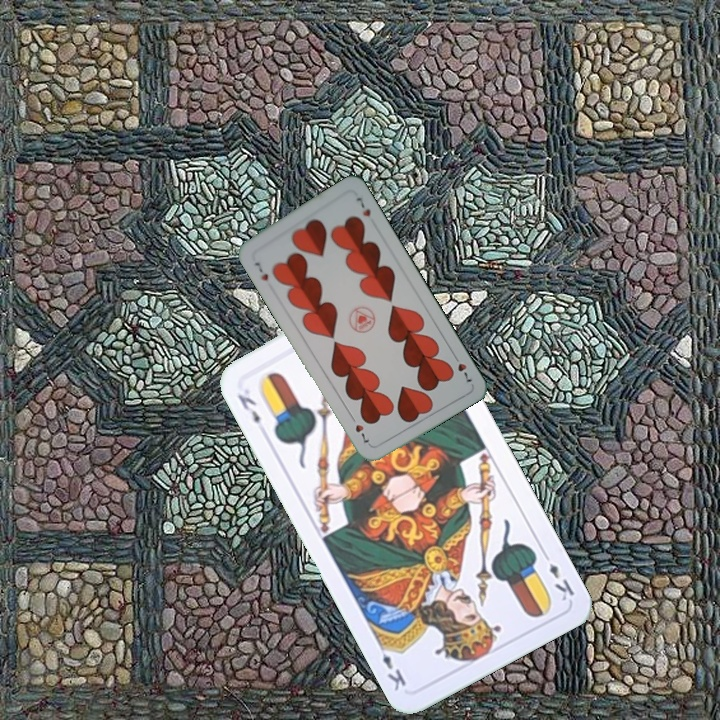EK: (538, 547, 578, 604), (233, 390, 263, 427)
H7: (449, 350, 475, 387), (250, 257, 271, 283)
